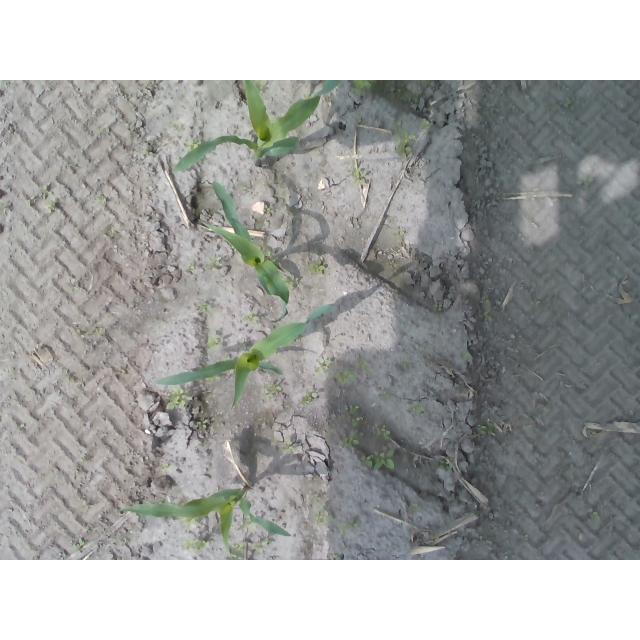Maize: (153, 304, 336, 413), (170, 80, 342, 174), (202, 175, 291, 322), (119, 485, 293, 559)
Weeds: (365, 449, 395, 474), (164, 387, 193, 410), (396, 127, 417, 155), (183, 539, 208, 553), (314, 511, 335, 527), (261, 382, 280, 399), (336, 370, 353, 386), (376, 427, 392, 442), (309, 261, 326, 275), (303, 390, 318, 405), (352, 168, 365, 185), (206, 336, 222, 349), (354, 81, 374, 91), (344, 436, 360, 448), (411, 401, 424, 415), (209, 254, 224, 266), (281, 441, 294, 454), (317, 361, 329, 373), (236, 544, 244, 561), (188, 140, 198, 152), (359, 360, 369, 372), (351, 416, 361, 428), (461, 351, 472, 360), (422, 119, 431, 130), (48, 202, 57, 213), (197, 420, 208, 429), (246, 315, 257, 323), (208, 375, 220, 382), (264, 206, 271, 214)
